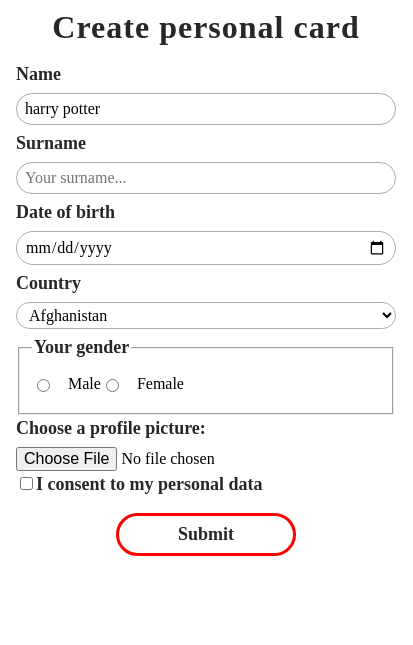
Test: Form › disabled submit button after click if changes is not at all inputs
Replace the text in the field with placeholder "Your name..." with "a". click: (206, 109)
box: [16, 93, 396, 125]
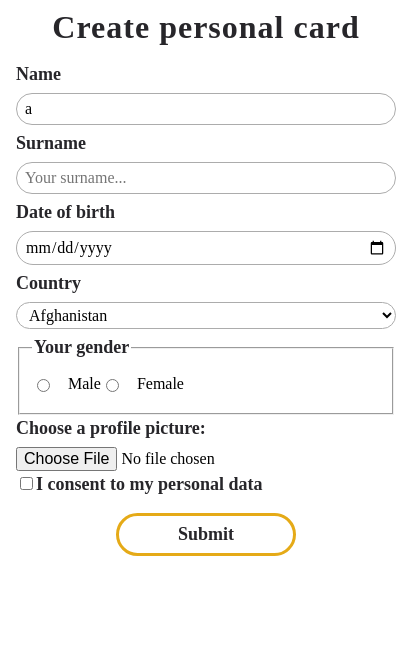
Now the button is enabled
Click the button. click: click(206, 534)
box: [116, 513, 296, 556]
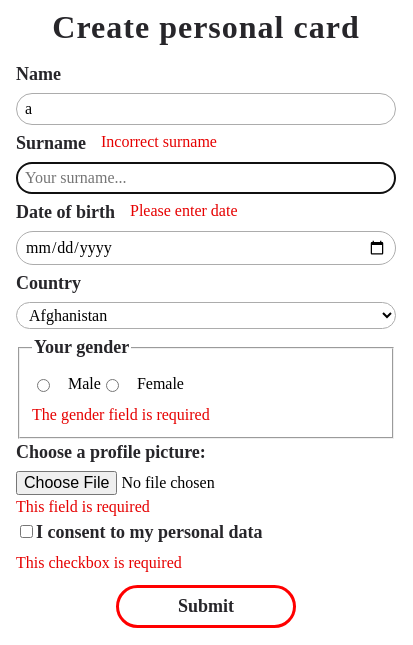
Now the button is disabled, box [116, 585, 296, 628]
